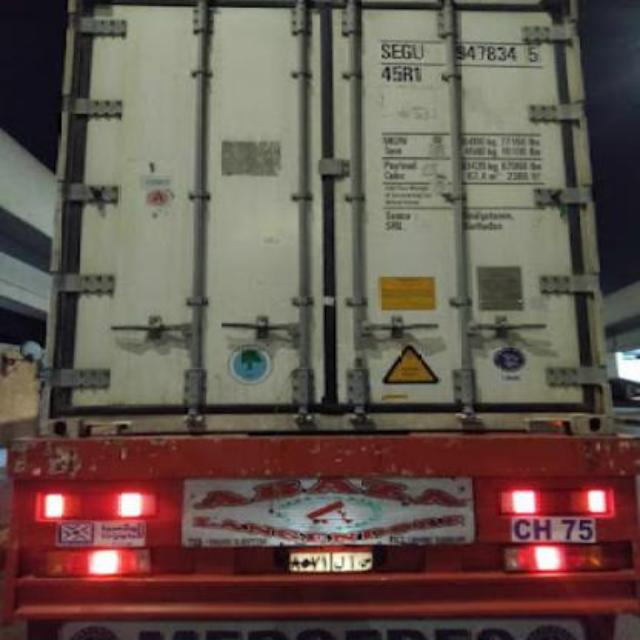3: (496, 43, 506, 63)
4: (506, 45, 518, 63), (468, 42, 476, 62)
5: (528, 45, 544, 65)
7: (476, 42, 488, 62)
8: (486, 45, 496, 63)
9: (456, 43, 468, 63)
E: (390, 42, 402, 60)
G: (402, 42, 412, 60)
S: (380, 42, 390, 58)
U: (412, 42, 424, 60)
